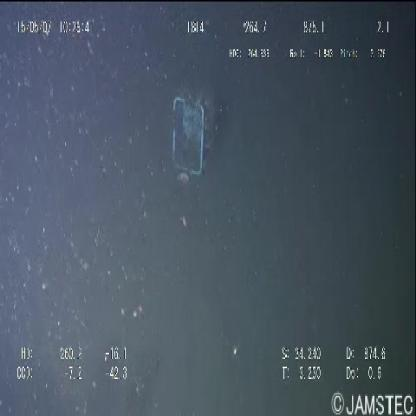Rác: (166, 88, 208, 189)
